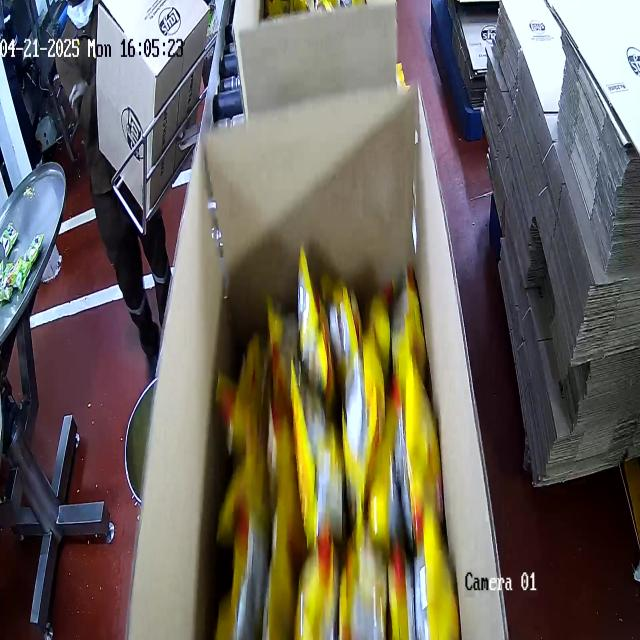SALTED: (211, 251, 458, 640)
